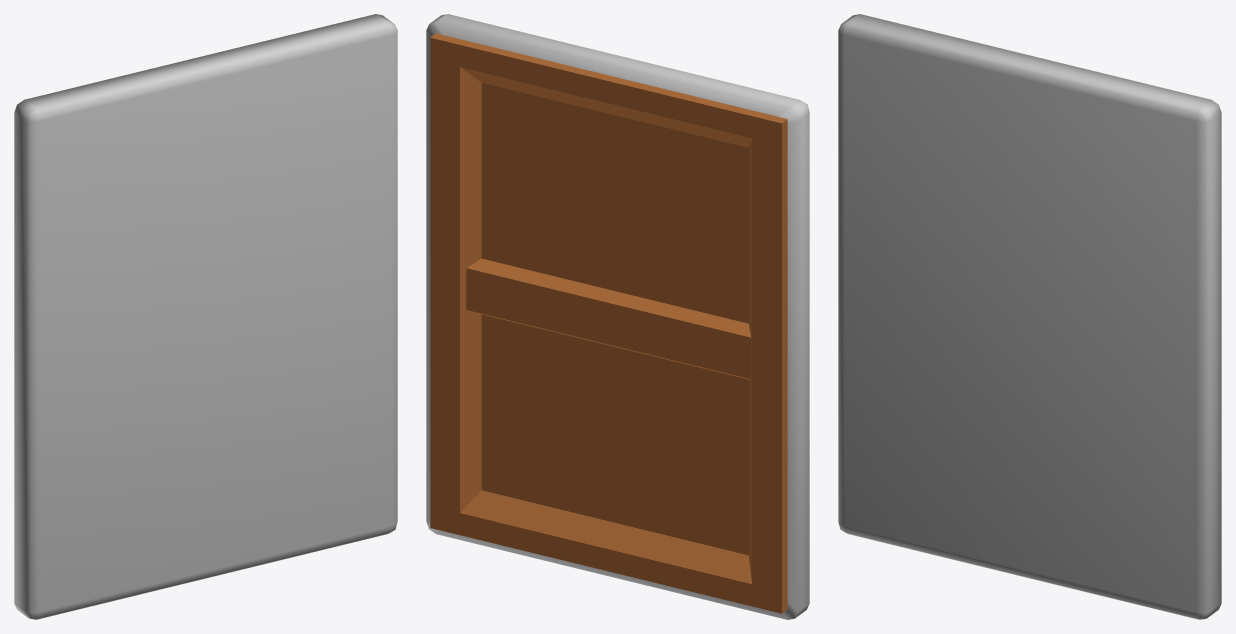
The model's file is painting.obj.
3 views of the same model, side by side, from view 1: azimuth 30°, elevation 25°; view 2: azimuth 150°, elevation 25°; view 3: azimuth 330°, elevation 25° (orthographic).
Visible parts, largest first — view 1: painting_Cube.184; view 2: painting_Cube.184; view 3: painting_Cube.184.
Boxes of the visible parts, x1=… form: painting_Cube.184: x1=14, y1=14, x2=397, y2=619; painting_Cube.184: x1=426, y1=14, x2=809, y2=619; painting_Cube.184: x1=838, y1=14, x2=1221, y2=619.
Bounding box in the file's own units: 1.19 × 1.57 × 0.1178.
